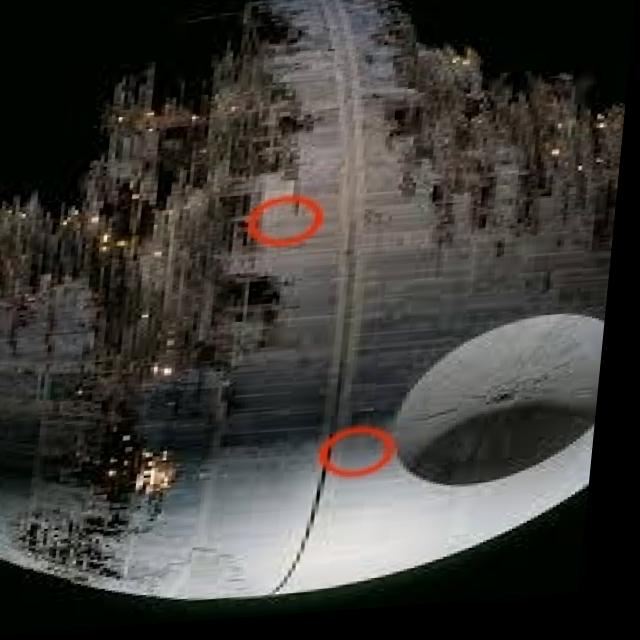deathStar: (0, 0, 639, 620)
